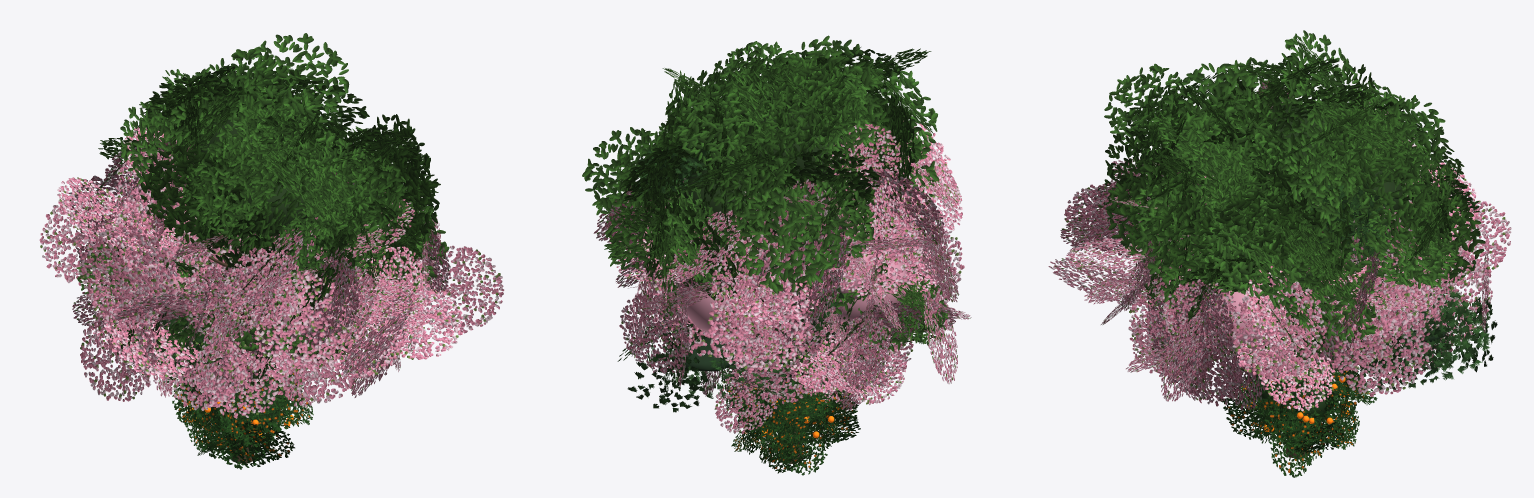
The model's file is trees.glb.
3 views of the same model, side by side, from view 1: azimuth 30°, elevation 25°; view 2: azimuth 150°, elevation 25°; view 3: azimuth 270°, elevation 25° (orthographic).
Parts seen in each view (by area): view 1: tree_sakura, tree_broad_a, tree_mikan, tree_broad_b, tree_pine; view 2: tree_broad_a, tree_sakura, tree_mikan, tree_pine, tree_broad_b; view 3: tree_broad_a, tree_sakura, tree_mikan, tree_pine, tree_street.
Boxes of the visible parts, x1,y1,x2,y2 form: tree_sakura: (39,126,504,418); tree_broad_a: (91,33,449,463); tree_mikan: (164,364,313,469); tree_broad_b: (76,190,380,385); tree_pine: (114,97,327,379); tree_broad_a: (582,35,939,463); tree_sakura: (593,120,971,434); tree_mikan: (725,367,860,475); tree_pine: (617,137,943,412); tree_broad_b: (767,197,949,373); tree_broad_a: (1091,30,1485,457); tree_sakura: (1048,81,1511,457); tree_mikan: (1221,365,1377,477); tree_pine: (1287,163,1497,390); tree_street: (1231,185,1370,382).
Size of the model in its own units: 10.02 by 10.45 by 10.79.
Materials: 16 (6 with a texture image).
